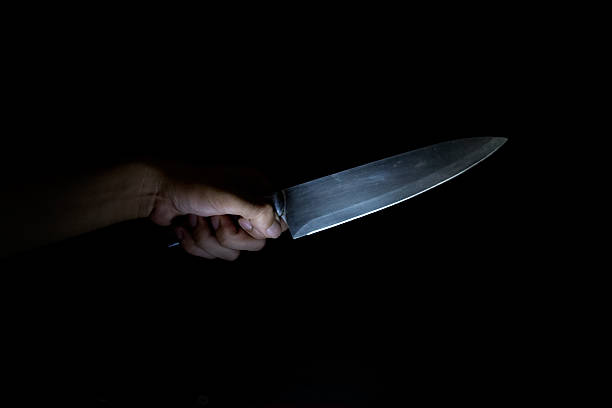knife: (271, 131, 511, 243)
